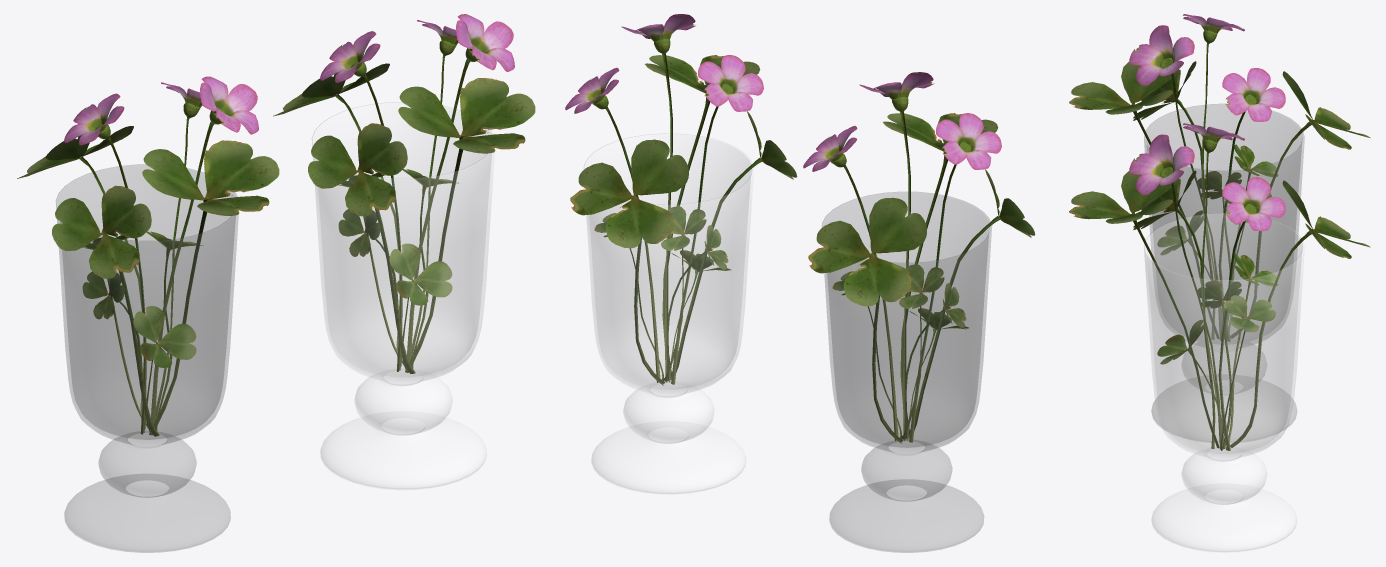
Rendered from vaseflowers.glb.
3 renders of one model, left to right at view 1: azimuth 30°, elevation 25°; view 2: azimuth 150°, elevation 25°; view 3: azimuth 270°, elevation 25°, orthographic. The views are drawn at different scales.
Parts seen in each view (by area): view 1: Flowers1, GlassAlpha, GlassTransmission; view 2: Flowers1, GlassAlpha, GlassTransmission; view 3: GlassTransmission, Flowers1, GlassAlpha.
Part boxes in pixels (x1,y1,x2,y2): Flowers1: (17,14,535,436); GlassAlpha: (56,164,238,552); GlassTransmission: (312,102,494,490); Flowers1: (565,14,1035,443); GlassAlpha: (822,192,991,552); GlassTransmission: (584,133,753,494); GlassTransmission: (1144,213,1304,552); Flowers1: (1069,14,1370,450); GlassAlpha: (1144,104,1304,442).
Size of the model in its own units: 0.2173 by 0.2032 by 0.1425.
Materials: 3 (1 with a texture image).
